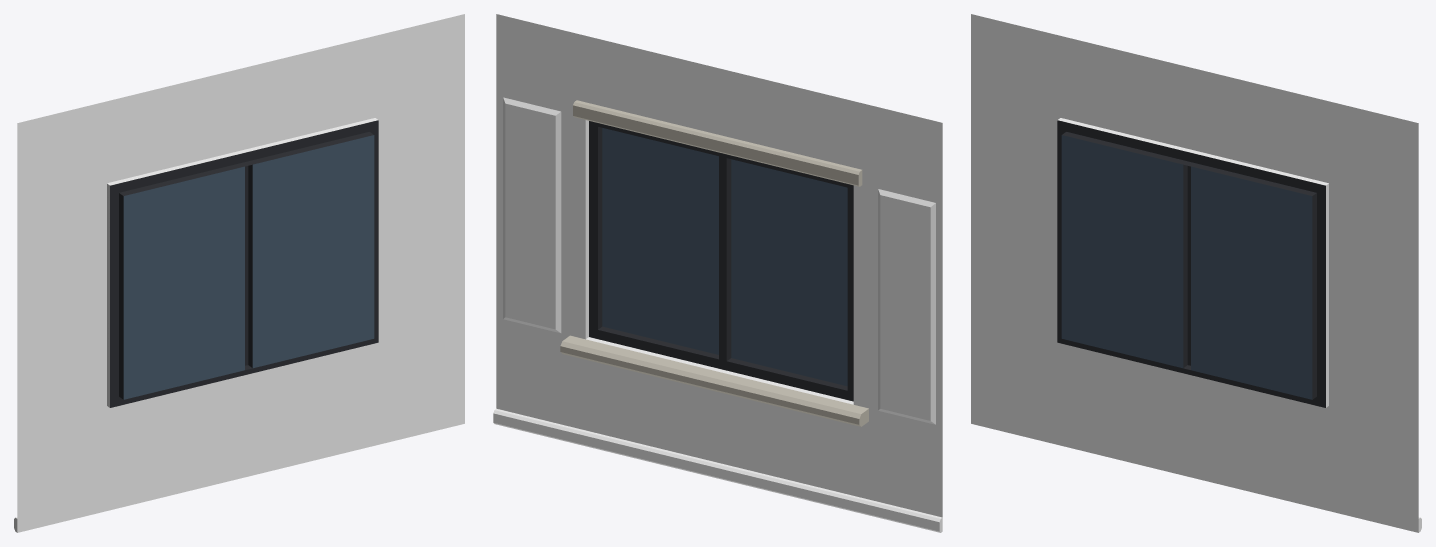
Rendered from off_win_b.glb.
3 renders of one model, left to right at view 1: azimuth 30°, elevation 25°; view 2: azimuth 150°, elevation 25°; view 3: azimuth 330°, elevation 25°, orthographic.
Parts seen in each view (by area): view 1: off_win_b__mesh; view 2: off_win_b__mesh; view 3: off_win_b__mesh.
Boxes of the visible parts, x1,y1,x2,y2 form: off_win_b__mesh: (14,14,464,532); off_win_b__mesh: (493,14,942,532); off_win_b__mesh: (971,14,1421,532).
Size of what is drawn, in the model's own units: 4 by 3.5 by 0.27.
Materials: 2 (1 with a texture image).
